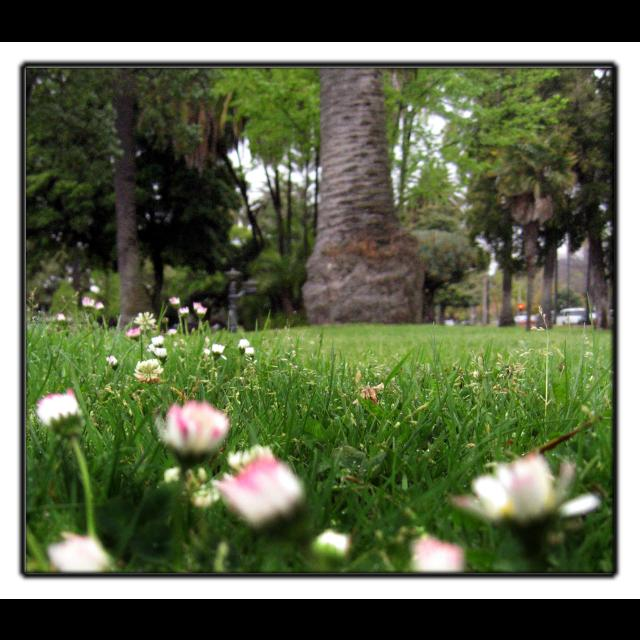Flower: (449, 448, 596, 532), (210, 448, 310, 538), (158, 401, 226, 455), (54, 536, 116, 578), (408, 538, 466, 576), (38, 390, 84, 434), (313, 530, 345, 566), (133, 360, 163, 380), (134, 310, 158, 332), (152, 346, 166, 362), (79, 295, 97, 307), (212, 342, 224, 360), (150, 334, 166, 346), (237, 337, 249, 353), (108, 352, 120, 366), (126, 330, 140, 342), (180, 306, 192, 318), (55, 310, 65, 320), (191, 300, 199, 312), (170, 296, 178, 304), (96, 300, 102, 310)
